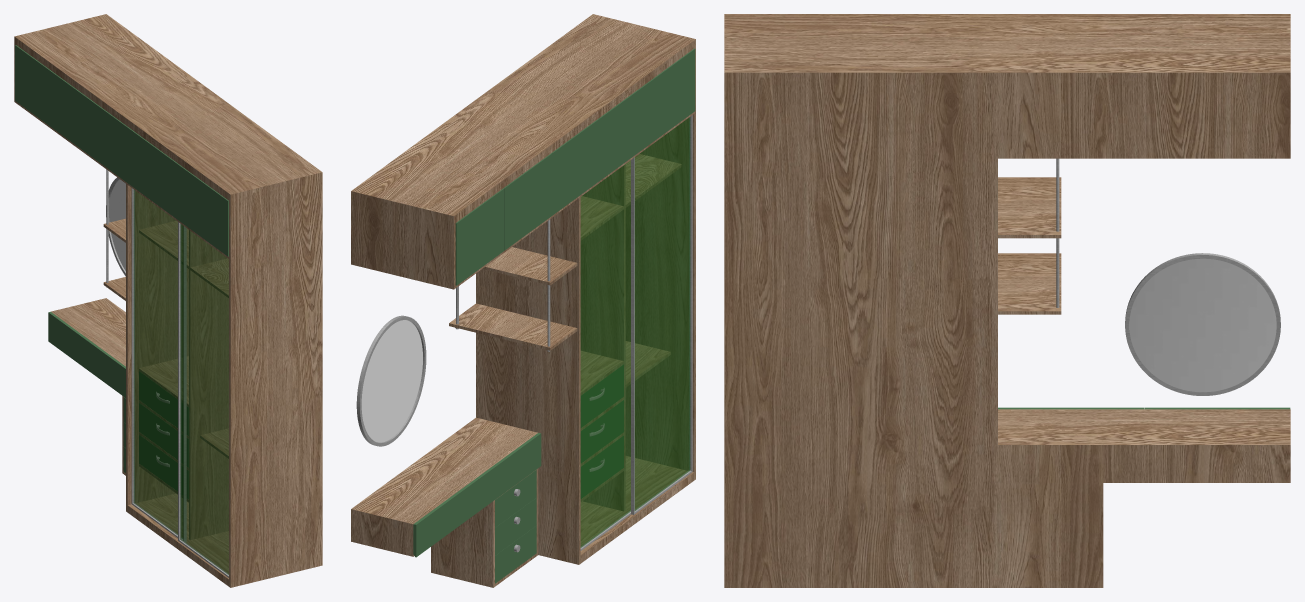
File: beyaz_mese_giysi_dolab_makyaj_masas.glb
3 renders of one model, left to right at view 1: azimuth 30°, elevation 25°; view 2: azimuth 150°, elevation 25°; view 3: azimuth 270°, elevation 25°, orthographic. The views are drawn at different scales.
Visible parts, largest first — view 1: Mesh36_M_29944_NORDIK_WOOD_160X320_NAT_RET_12mm_0, Mesh35_Translucent_Glass_Dark_Green_0, Mesh34_Translucent_Glass_Dark_Green_0, Mesh34_Steel_Brushed_Stainless_0, Mesh11_SW_6166_Eclipse_0, Mesh12_SW_6166_Eclipse_0, Mesh13_SW_6166_Eclipse_0, Mesh14_SW_6166_Eclipse_0, Mesh15_SW_6166_Eclipse_0, Mesh32_SW_6166_Eclipse_0, Mesh35_Steel_Brushed_Stainless_0, Mesh17_SW_6166_Eclipse_0 (+5 smaller); view 2: Mesh36_M_29944_NORDIK_WOOD_160X320_NAT_RET_12mm_0, Mesh35_Translucent_Glass_Dark_Green_0, Mesh34_Translucent_Glass_Dark_Green_0, Mesh2_Mirror_02_0, Mesh15_SW_6166_Eclipse_0, Mesh11_SW_6166_Eclipse_0, Mesh12_SW_6166_Eclipse_0, Mesh35_Steel_Brushed_Stainless_0, Mesh14_SW_6166_Eclipse_0, Mesh13_SW_6166_Eclipse_0, Mesh32_SW_6166_Eclipse_0, Mesh33_SW_6166_Eclipse_0 (+10 smaller); view 3: Mesh36_M_29944_NORDIK_WOOD_160X320_NAT_RET_12mm_0, Mesh2_Mirror_01_0, Mesh1_Steel_Brushed_Stainless_0.
Part boxes in pixels (box(x1,y1,x2,y2)): Mesh36_M_29944_NORDIK_WOOD_160X320_NAT_RET_12mm_0: box(14, 14, 322, 587); Mesh35_Translucent_Glass_Dark_Green_0: box(180, 224, 228, 574); Mesh34_Translucent_Glass_Dark_Green_0: box(133, 190, 182, 538); Mesh34_Steel_Brushed_Stainless_0: box(131, 188, 186, 541); Mesh11_SW_6166_Eclipse_0: box(57, 76, 100, 162); Mesh12_SW_6166_Eclipse_0: box(185, 170, 228, 256); Mesh13_SW_6166_Eclipse_0: box(143, 138, 186, 225); Mesh14_SW_6166_Eclipse_0: box(100, 107, 143, 193); Mesh15_SW_6166_Eclipse_0: box(15, 45, 57, 131); Mesh32_SW_6166_Eclipse_0: box(48, 311, 106, 381); Mesh35_Steel_Brushed_Stainless_0: box(178, 222, 228, 577); Mesh17_SW_6166_Eclipse_0: box(139, 371, 188, 435); Mesh36_M_29944_NORDIK_WOOD_160X320_NAT_RET_12mm_0: box(351, 14, 695, 587); Mesh35_Translucent_Glass_Dark_Green_0: box(634, 117, 690, 510); Mesh34_Translucent_Glass_Dark_Green_0: box(580, 160, 630, 547); Mesh2_Mirror_02_0: box(361, 320, 422, 442); Mesh15_SW_6166_Eclipse_0: box(455, 188, 504, 285); Mesh11_SW_6166_Eclipse_0: box(504, 153, 552, 250); Mesh12_SW_6166_Eclipse_0: box(647, 48, 695, 145); Mesh35_Steel_Brushed_Stainless_0: box(631, 115, 692, 514); Mesh14_SW_6166_Eclipse_0: box(551, 118, 599, 215); Mesh13_SW_6166_Eclipse_0: box(599, 83, 647, 180); Mesh32_SW_6166_Eclipse_0: box(413, 478, 478, 557); Mesh33_SW_6166_Eclipse_0: box(476, 433, 541, 511); Mesh36_M_29944_NORDIK_WOOD_160X320_NAT_RET_12mm_0: box(724, 14, 1290, 587); Mesh2_Mirror_01_0: box(1129, 258, 1276, 392); Mesh1_Steel_Brushed_Stainless_0: box(1125, 253, 1280, 395).
Bounding box in the file's own units: 6.68 × 27 × 26.9.
Materials: 8 (5 with a texture image).
